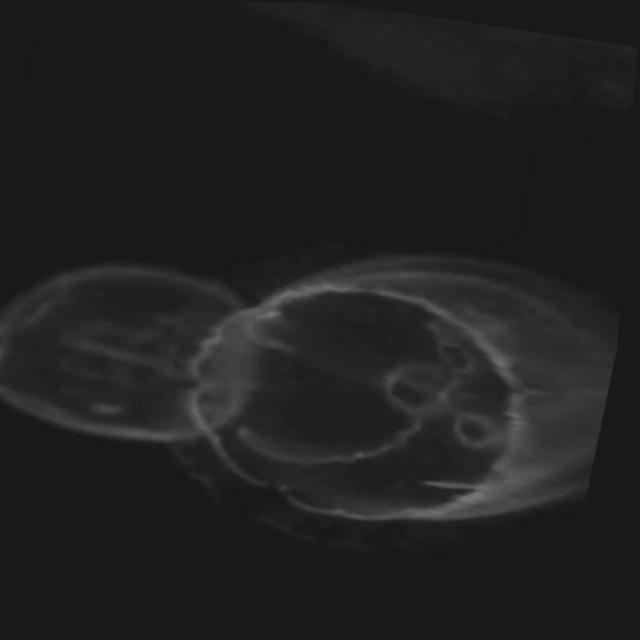Moon-jellyfish: (197, 251, 624, 528), (0, 253, 313, 444)
